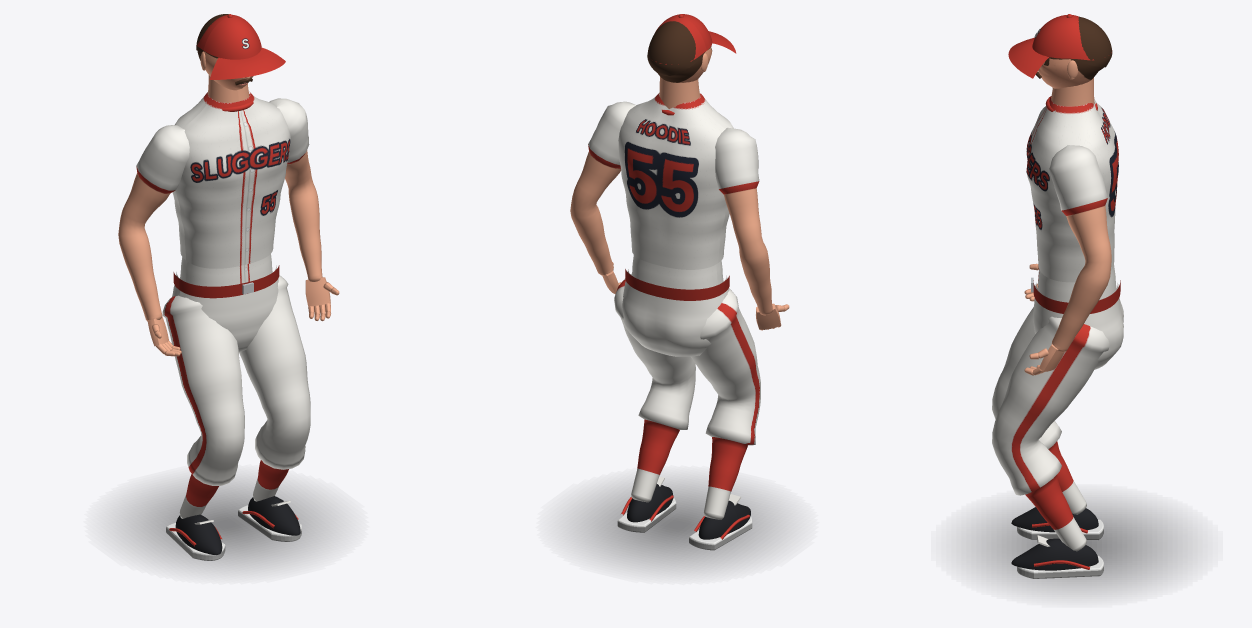
The model's file is player_20_home.glb.
3 renders of one model, left to right at view 1: azimuth 30°, elevation 25°; view 2: azimuth 150°, elevation 25°; view 3: azimuth 270°, elevation 25°, orthographic. The views are drawn at different scales.
Visible parts, largest first — view 1: player_20_home, object 31, object 33, object 2; view 2: player_20_home, object 29, object 2, object 31; view 3: player_20_home, object 31, object 29, object 35, object 33, object 2.
Part boxes in pixels (box(x1,y1,x2,y2)): player_20_home: box(117, 91, 334, 570); object 31: box(196, 14, 261, 59); object 33: box(209, 47, 285, 79); object 2: box(208, 75, 249, 102); player_20_home: box(569, 93, 785, 570); object 29: box(647, 21, 711, 76); object 2: box(659, 77, 700, 108); object 31: box(652, 14, 712, 64); player_20_home: box(966, 96, 1187, 592); object 31: box(1032, 14, 1112, 60); object 29: box(1049, 16, 1112, 67); object 35: box(1038, 58, 1103, 88); object 33: box(1008, 37, 1049, 78); object 2: box(1051, 77, 1094, 106).
Bounding box in the file's own units: 3.2 × 5.92 × 3.2.
Materials: 26 (5 with a texture image).
